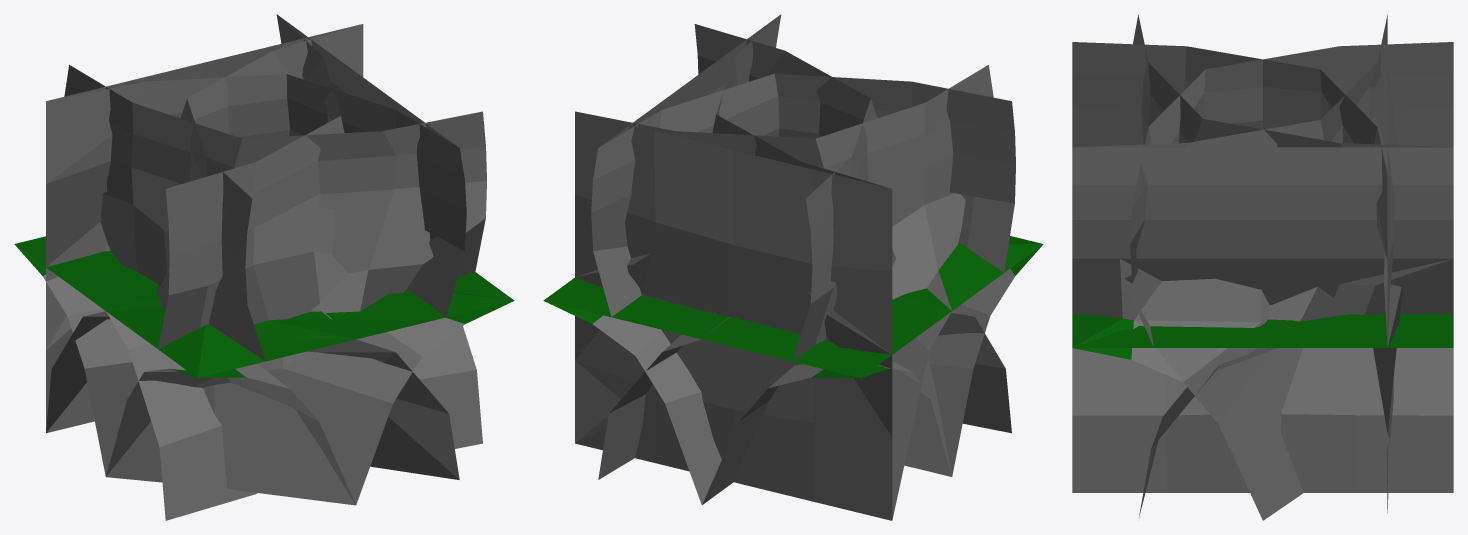
The model's file is wfc_modules.glb.
3 renders of one model, left to right at view 1: azimuth 30°, elevation 25°; view 2: azimuth 150°, elevation 25°; view 3: azimuth 270°, elevation 25°, orthographic. The views are drawn at different scales.
Visible parts, largest first — view 1: wfc_module_2, wfc_module_3, wfc_module_11, wfc_module_1, wfc_module_4, wfc_module_5, wfc_module_9, wfc_module_10, wfc_module_7, wfc_module_12, wfc_module_6, wfc_module_8 (+1 smaller); view 2: wfc_module_12, wfc_module_1, wfc_module_11, wfc_module_2, wfc_module_6, wfc_module_10, wfc_module_8, wfc_module_4, wfc_module_3, wfc_module_7, wfc_module_9, wfc_module_0; view 3: wfc_module_7, wfc_module_9, wfc_module_3, wfc_module_1, wfc_module_2, wfc_module_11, wfc_module_8, wfc_module_12, wfc_module_10.
Boxes of the visible parts, x1,y1,x2,y2 form: wfc_module_2: (15, 65, 513, 505); wfc_module_3: (46, 74, 513, 433); wfc_module_11: (158, 14, 434, 348); wfc_module_1: (46, 24, 363, 432); wfc_module_4: (106, 311, 257, 520); wfc_module_5: (307, 339, 459, 479); wfc_module_9: (16, 236, 394, 361); wfc_module_10: (413, 326, 482, 448); wfc_module_7: (277, 14, 476, 316); wfc_module_12: (46, 24, 359, 349); wfc_module_6: (106, 368, 319, 476); wfc_module_8: (14, 237, 513, 319); wfc_module_12: (575, 111, 892, 520); wfc_module_1: (575, 65, 1043, 519); wfc_module_11: (591, 73, 1015, 272); wfc_module_2: (694, 24, 951, 475); wfc_module_6: (904, 245, 1042, 476); wfc_module_10: (544, 301, 721, 504); wfc_module_8: (543, 277, 905, 377); wfc_module_4: (598, 311, 1011, 479); wfc_module_3: (712, 14, 892, 437); wfc_module_7: (578, 14, 780, 317); wfc_module_9: (663, 288, 951, 377); wfc_module_0: (702, 364, 859, 504); wfc_module_7: (1072, 147, 1453, 347); wfc_module_9: (1072, 348, 1453, 492); wfc_module_3: (1072, 15, 1387, 520); wfc_module_1: (1072, 42, 1402, 512); wfc_module_2: (1125, 42, 1453, 346); wfc_module_11: (1133, 15, 1453, 321); wfc_module_8: (1073, 317, 1453, 347); wfc_module_12: (1387, 56, 1397, 446); wfc_module_10: (1138, 348, 1276, 518).
Size of the model in its own units: 1 by 1 by 1.
